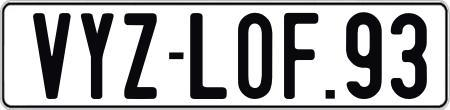0: (237, 11, 276, 101)
3: (390, 12, 430, 98)
9: (344, 10, 386, 100)
F: (284, 10, 320, 97)
L: (187, 12, 230, 99)
V: (32, 13, 74, 102)
Y: (80, 12, 116, 104)
Z: (121, 13, 155, 99)
